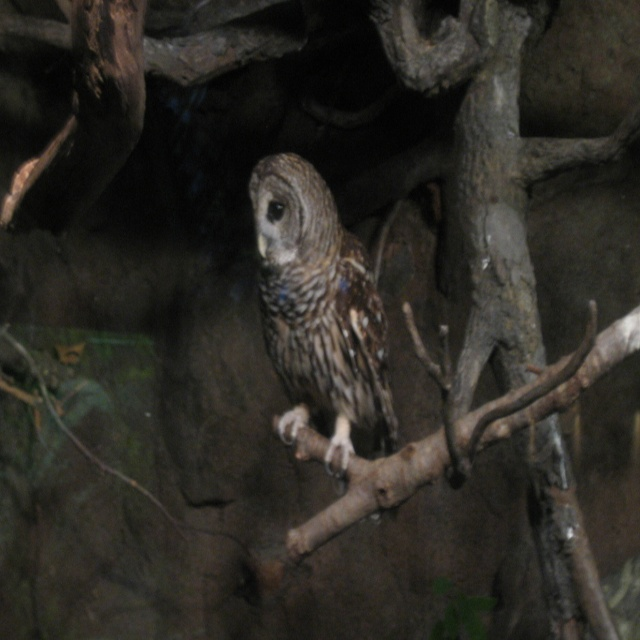Owl: (247, 150, 396, 482)
